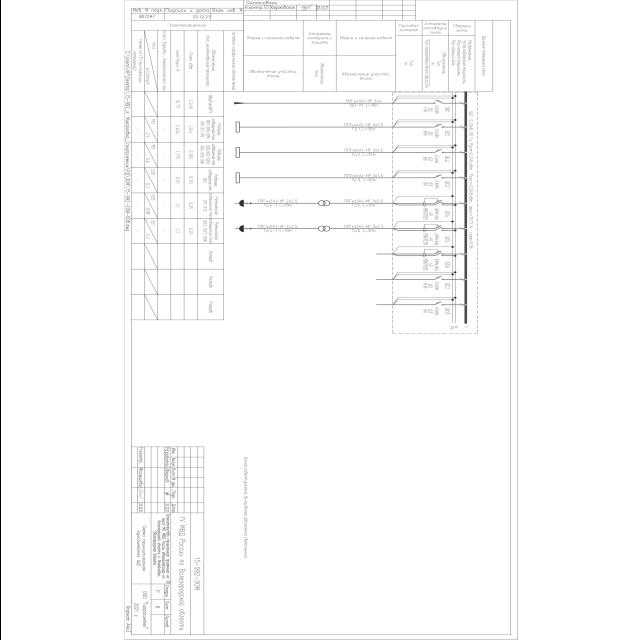-: (421, 258, 439, 271), (422, 232, 438, 245), (422, 208, 438, 220), (421, 180, 439, 190), (421, 154, 439, 164), (422, 306, 438, 316), (422, 281, 438, 291), (422, 129, 438, 139), (422, 104, 438, 114), (466, 110, 473, 116)
QF: (429, 99, 464, 105), (430, 174, 464, 180), (430, 149, 464, 155), (430, 124, 464, 130), (432, 301, 464, 307), (432, 276, 464, 282)
QFD: (421, 248, 463, 258), (421, 198, 463, 208), (422, 224, 464, 232)
